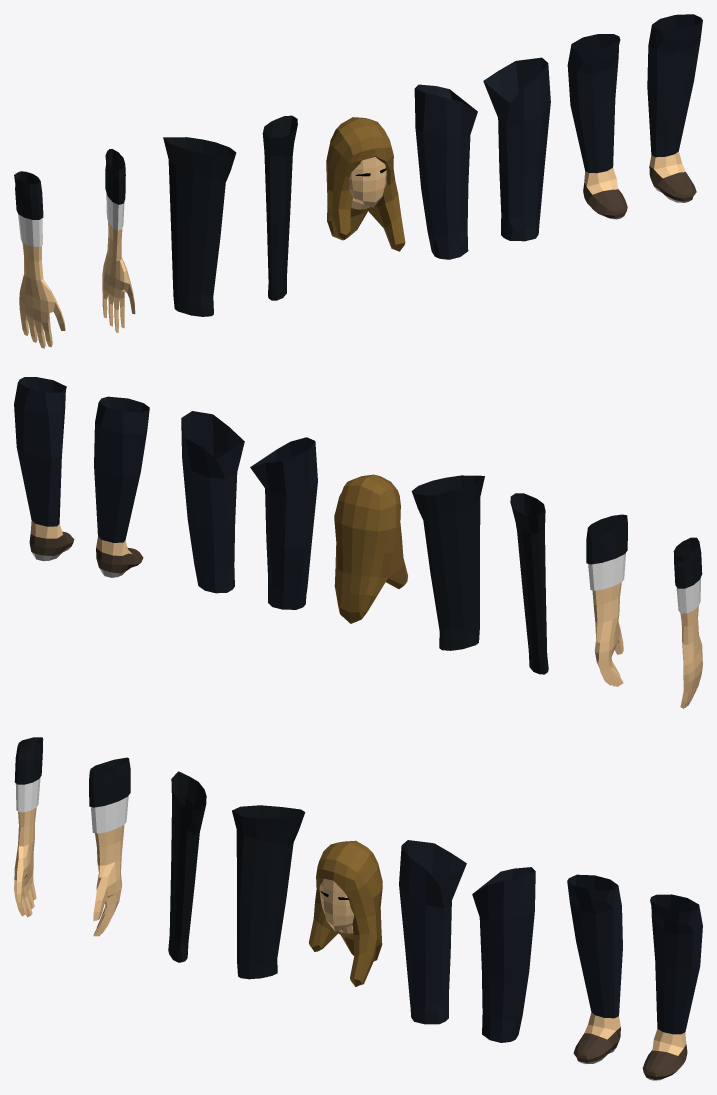
The model's file is 01_Mulher.fbx.
3 renders of one model, top to bottom at view 1: azimuth 30°, elevation 25°; view 2: azimuth 150°, elevation 25°; view 3: azimuth 330°, elevation 25°, orthographic.
Visible parts, largest first — view 1: 01_BracoDir, 01_CoxaEsq, 01_CoxaDir, 01_PernaEsq, 01_Cabeca, 01_PernaDir, 01_AntebracoDir, 01_BracoEsq, 01_AntebracoEsq; view 2: 01_BracoEsq, 01_CoxaEsq, 01_Cabeca, 01_CoxaDir, 01_PernaDir, 01_PernaEsq, 01_AntebracoEsq, 01_BracoDir, 01_AntebracoDir; view 3: 01_BracoEsq, 01_CoxaDir, 01_CoxaEsq, 01_PernaDir, 01_PernaEsq, 01_Cabeca, 01_AntebracoEsq, 01_BracoDir, 01_AntebracoDir.
Part boxes in pixels (x1,y1,x2,y2): 01_BracoDir: (163,137,236,316); 01_CoxaEsq: (483,57,550,241); 01_CoxaDir: (414,84,477,259); 01_PernaEsq: (647,14,702,202); 01_Cabeca: (326,117,405,251); 01_PernaDir: (567,34,627,219); 01_AntebracoDir: (14,171,65,348); 01_BracoEsq: (262,115,297,300); 01_AntebracoEsq: (102,149,135,332); 01_BracoEsq: (411,475,484,650); 01_CoxaEsq: (181,411,244,593); 01_Cabeca: (334,474,407,623); 01_CoxaDir: (250,437,317,609); 01_PernaDir: (94,396,149,577); 01_PernaEsq: (14,377,74,561); 01_AntebracoEsq: (586,514,627,686); 01_BracoDir: (510,493,548,674); 01_AntebracoDir: (673,537,702,708); 01_BracoEsq: (232,805,305,979); 01_CoxaDir: (399,840,466,1024); 01_CoxaEsq: (472,867,535,1042); 01_PernaDir: (567,874,622,1063); 01_PernaEsq: (642,894,702,1080); 01_Cabeca: (309,840,382,986); 01_AntebracoEsq: (89,757,130,936); 01_BracoDir: (168,771,206,962); 01_AntebracoDir: (14,737,43,917).
Bounding box in the file's own units: 212 × 50.11 × 20.
1 material, 1 textured.
